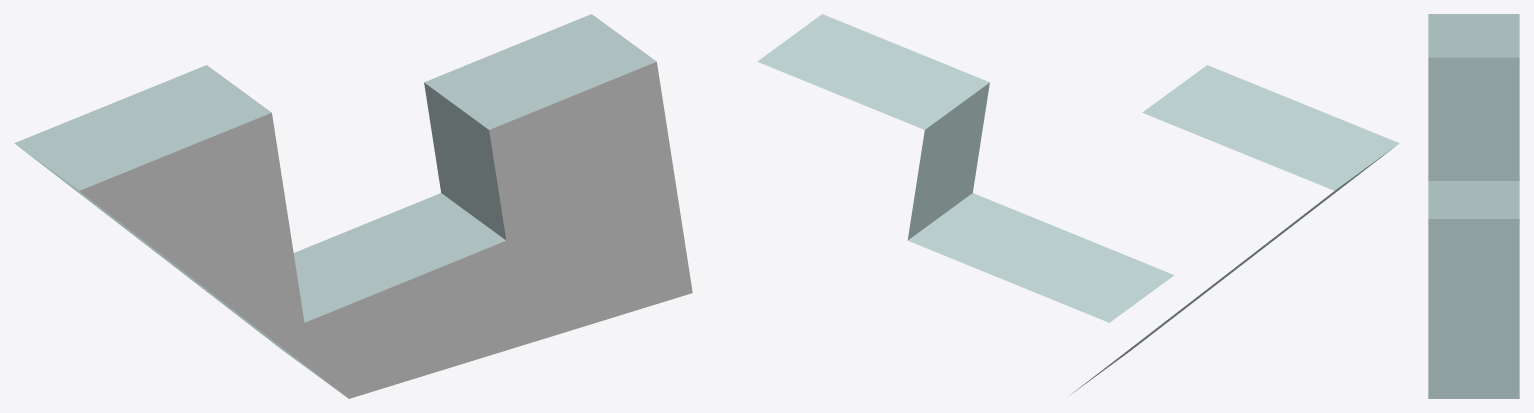
The picture shows the model from 3 angles, left to right: view 1: azimuth 30°, elevation 25°; view 2: azimuth 150°, elevation 25°; view 3: azimuth 270°, elevation 25°; orthographic projection. The views are drawn at different scales.
Visible parts, largest first — view 1: 0_0_2_1_1_0_1_1_1; view 2: 0_0_2_1_1_0_1_1_1; view 3: 0_0_2_1_1_0_1_1_1.
Part boxes in pixels (left/top/right/bottom): 0_0_2_1_1_0_1_1_1: left=14, top=14, right=692, bottom=398; 0_0_2_1_1_0_1_1_1: left=757, top=14, right=1399, bottom=394; 0_0_2_1_1_0_1_1_1: left=1428, top=14, right=1519, bottom=398.
Bounding box in the file's own units: 16.31 × 7.75 × 3.
